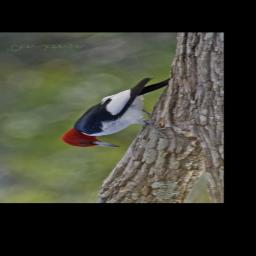Woodpecker: (58, 76, 177, 150)
